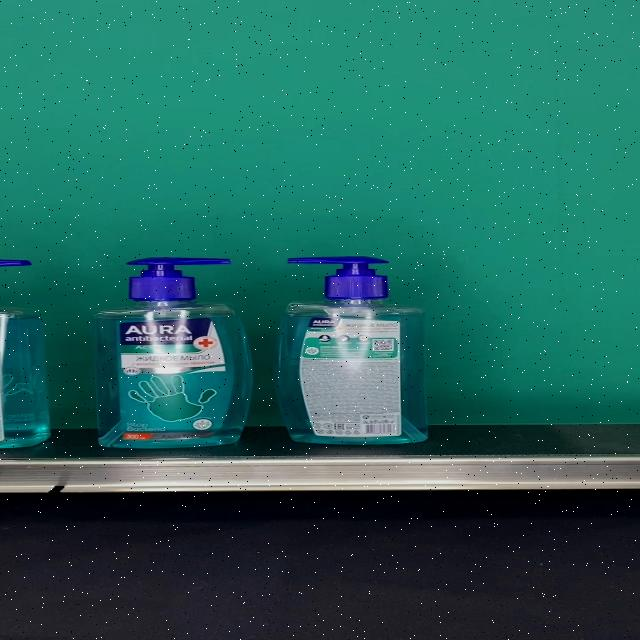Bottle: (91, 257, 253, 449), (276, 256, 429, 445)
Cap: (287, 256, 390, 299), (127, 258, 230, 300)
